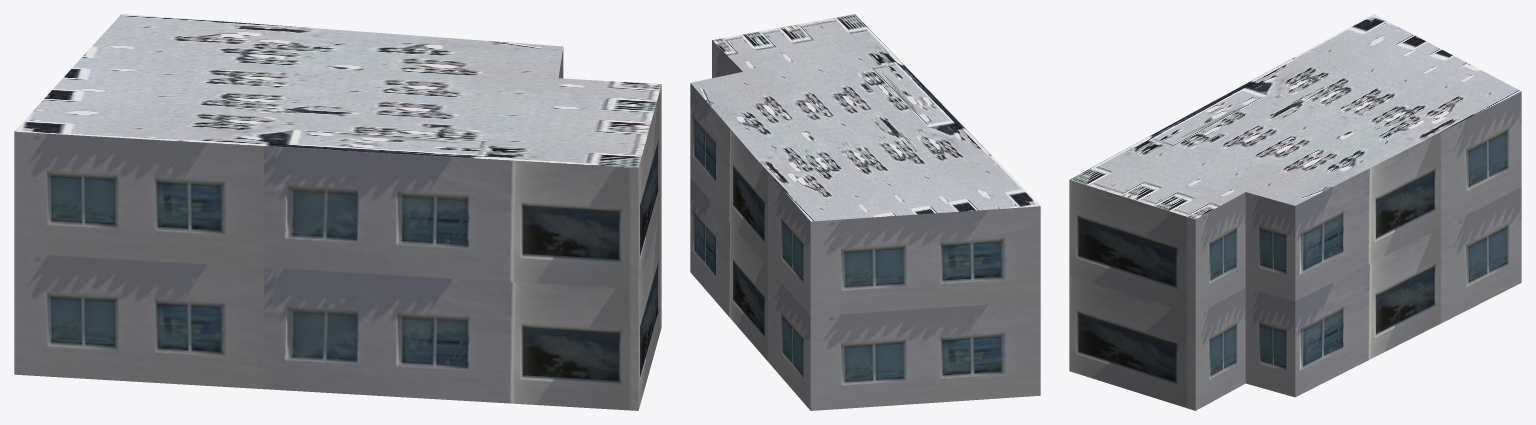
The model's file is ResTex__5050.fbx.
The picture shows the model from 3 angles, left to right: view 1: azimuth 30°, elevation 25°; view 2: azimuth 150°, elevation 25°; view 3: azimuth 270°, elevation 25°; orthographic projection. The views are drawn at different scales.
Visible parts, largest first — view 1: CityEngineMaterial_10_m, CityEngineMaterial_8_m; view 2: CityEngineMaterial_10_m, CityEngineMaterial_8_m; view 3: CityEngineMaterial_10_m, CityEngineMaterial_8_m.
Boxes of the visible parts, x1=… form: CityEngineMaterial_10_m: x1=14, y1=48, x2=661, y2=410; CityEngineMaterial_8_m: x1=14, y1=14, x2=661, y2=167; CityEngineMaterial_10_m: x1=690, y1=40, x2=1040, y2=410; CityEngineMaterial_8_m: x1=690, y1=14, x2=1039, y2=221; CityEngineMaterial_10_m: x1=1069, y1=91, x2=1521, y2=410; CityEngineMaterial_8_m: x1=1069, y1=14, x2=1521, y2=219.
Size of the model in its own units: 13.81 by 6 by 12.85.
2 materials, 2 textured.
